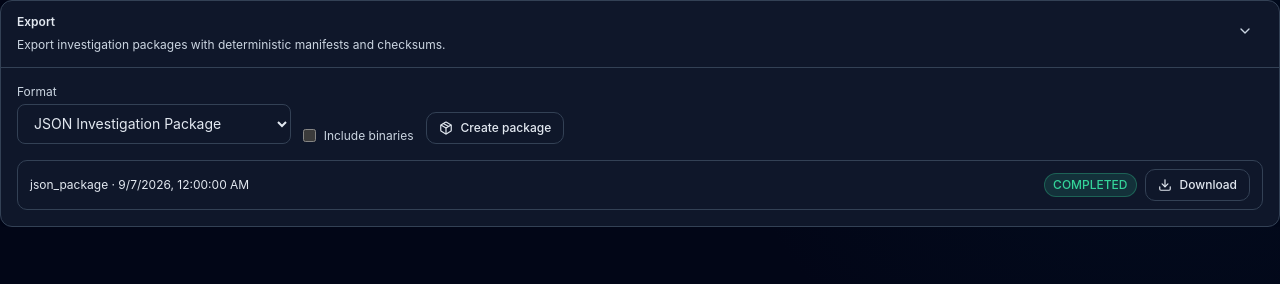
Test: Phase 9A interoperability UI › runs export action
Click the button "Create package": (495, 128) [426,112,564,144]
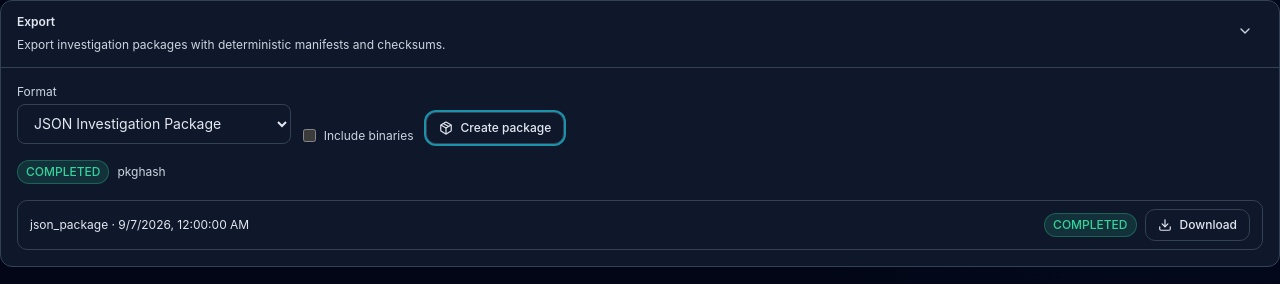
Now the text "COMPLETED" next to "pkghash" is shown, box [26,164,100,178]
